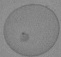small: (19, 32, 29, 42)
